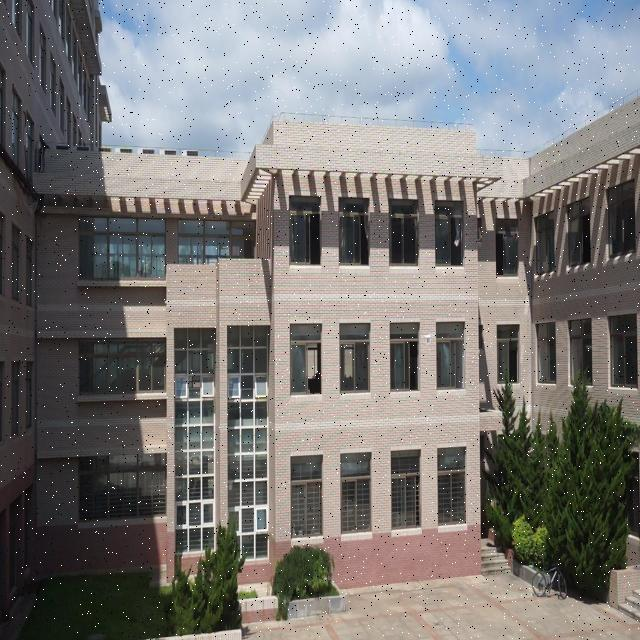UAV: (423, 334, 434, 345)
